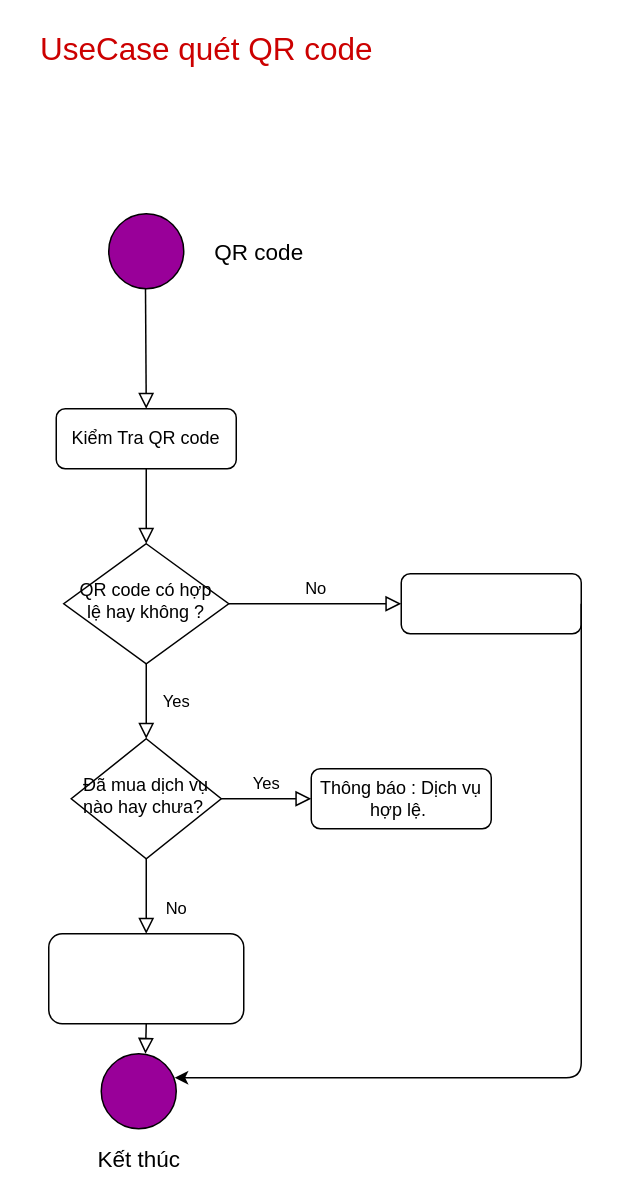
Image size: 620x1199. Some labels were removed from this diagram. The centre of each missing label's shape, as x and y in pixels:
Thông báo : Quý khách chưa mua dịch vụ, Gợi ý khách hàng mua dịch vụ: the point at 145,978
Thông báo QR code không hợp lệ.: the point at 490,603
